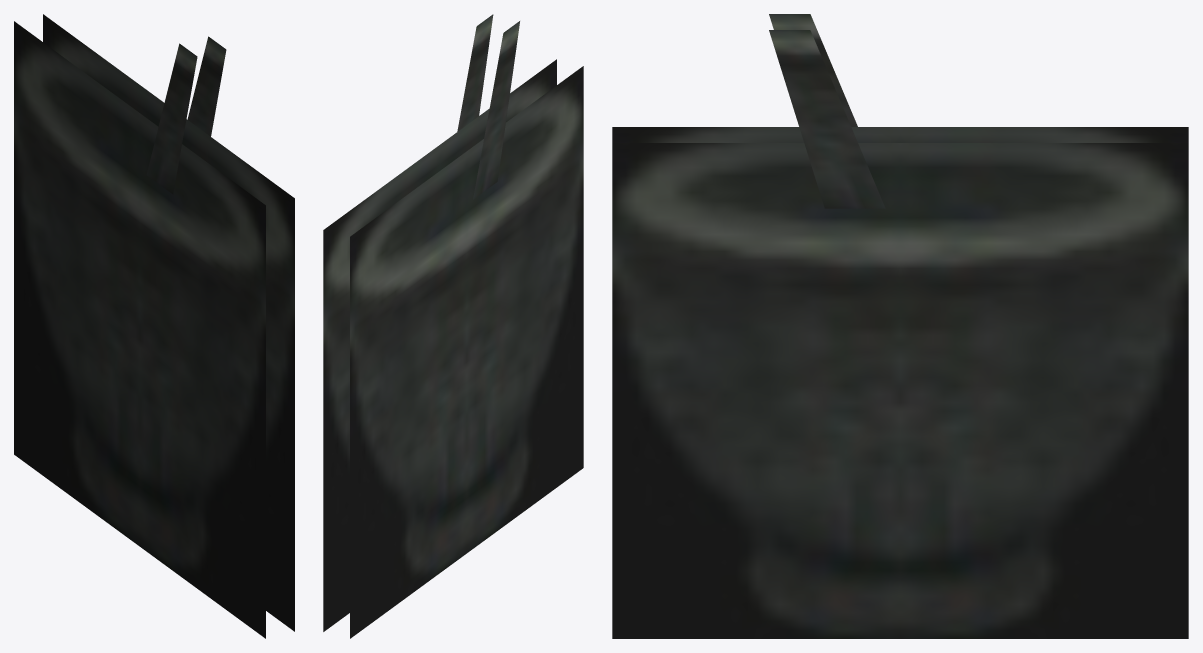
File: sign1_eng_a_icon_chemist.fbx
The picture shows the model from 3 angles, left to right: view 1: azimuth 30°, elevation 25°; view 2: azimuth 150°, elevation 25°; view 3: azimuth 270°, elevation 25°; orthographic projection. The views are drawn at different scales.
Parts seen in each view (by area): view 1: mortor, pestle; view 2: mortor, pestle; view 3: mortor, pestle.
Part boxes in pixels (x1,y1,x2,y2): mortor: (14,14,294,638); pestle: (146,36,226,194); mortor: (323,59,583,638); pestle: (457,14,519,199); mortor: (612,127,1188,638); pestle: (769,14,885,208).
Size of the model in its own units: 16.67 by 293 by 251.
Materials: 1 (1 with a texture image).
